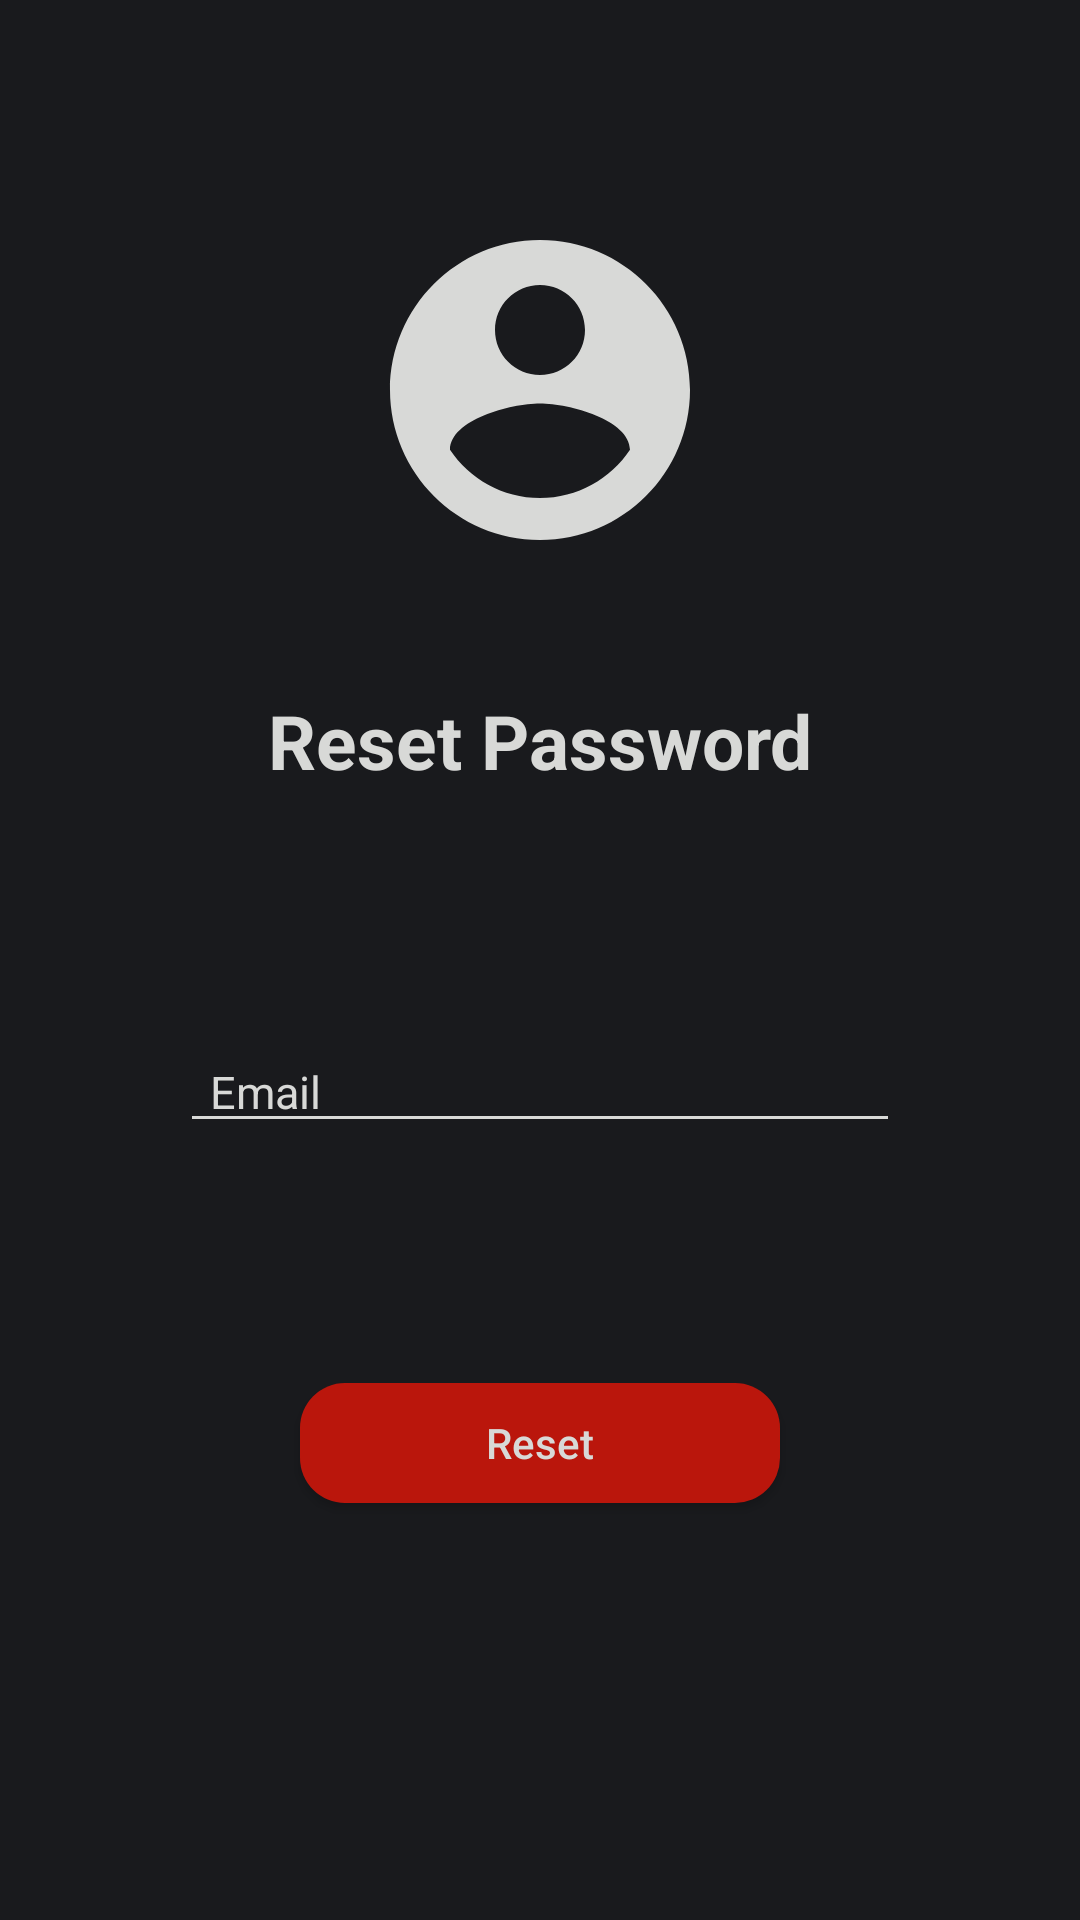

Icon bounding boxes for this 1080px x 1920px phone screenshot, format (left=x1, top=y1, right=x2, bottom=y2):
account circle: (left=390, top=240, right=690, bottom=540)
